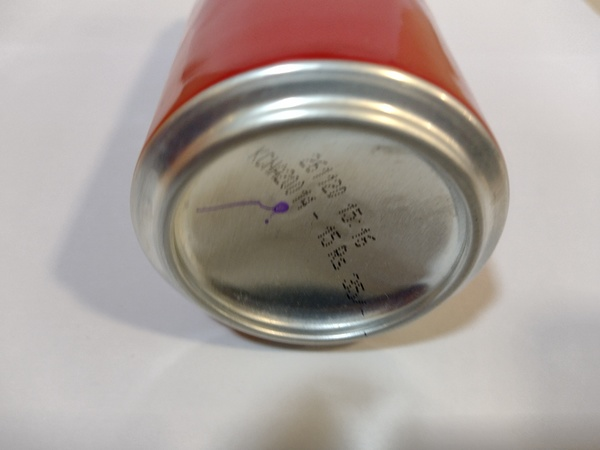can: (135, 7, 514, 362)
